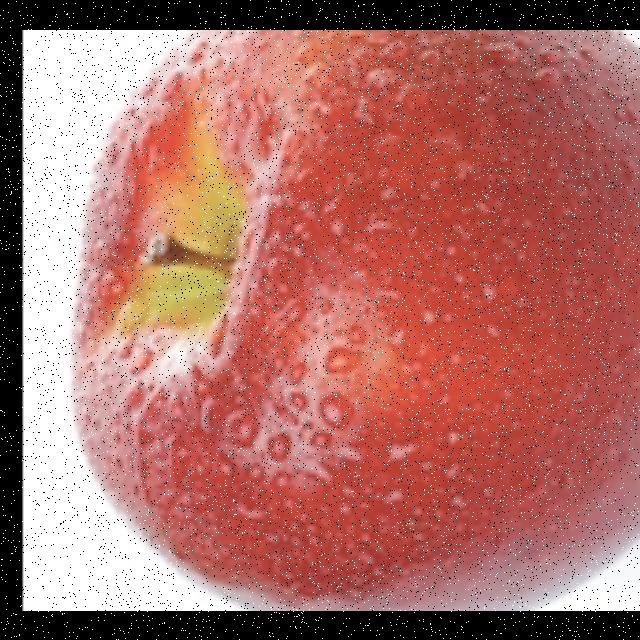Apel Segar: (71, 30, 640, 611)
